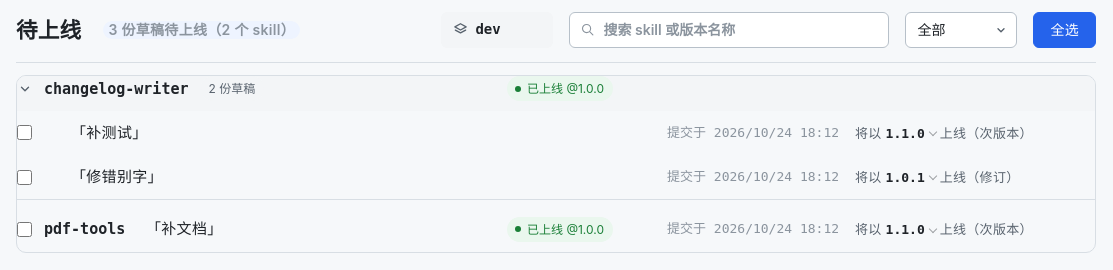
Test: the queue › narrows to the skills that have more than one draft
The image size is (1113, 270).
Click the button with class "menu-trigger" showing "全部".
click(961, 30)  # box [905, 12, 1017, 48]
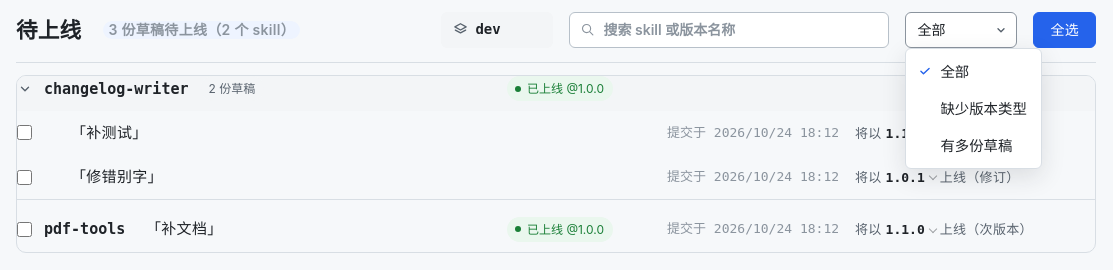
Click the option with class "menu-item" showing "有多份草稿".
click(974, 146)  # box [910, 127, 1037, 164]
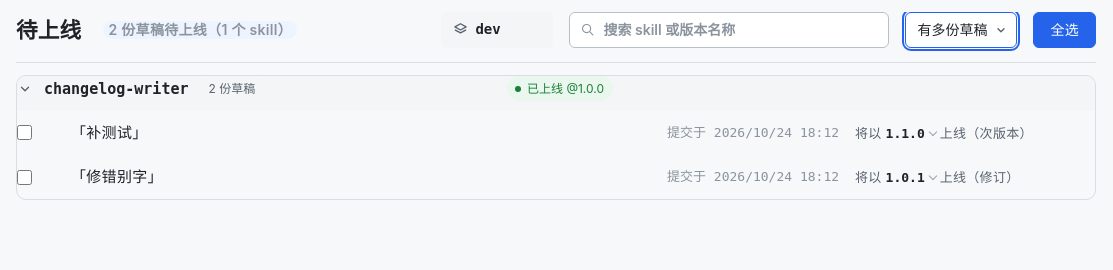
Check: the number of list items with class "is-child" is 2, box [17, 123, 1033, 144]; [17, 167, 1020, 188]
Check: the text with class "count" reads "2 份草稿待上线（1 个 skill）", box [108, 21, 292, 38]
Check: the text "pdf-tools" is gone
